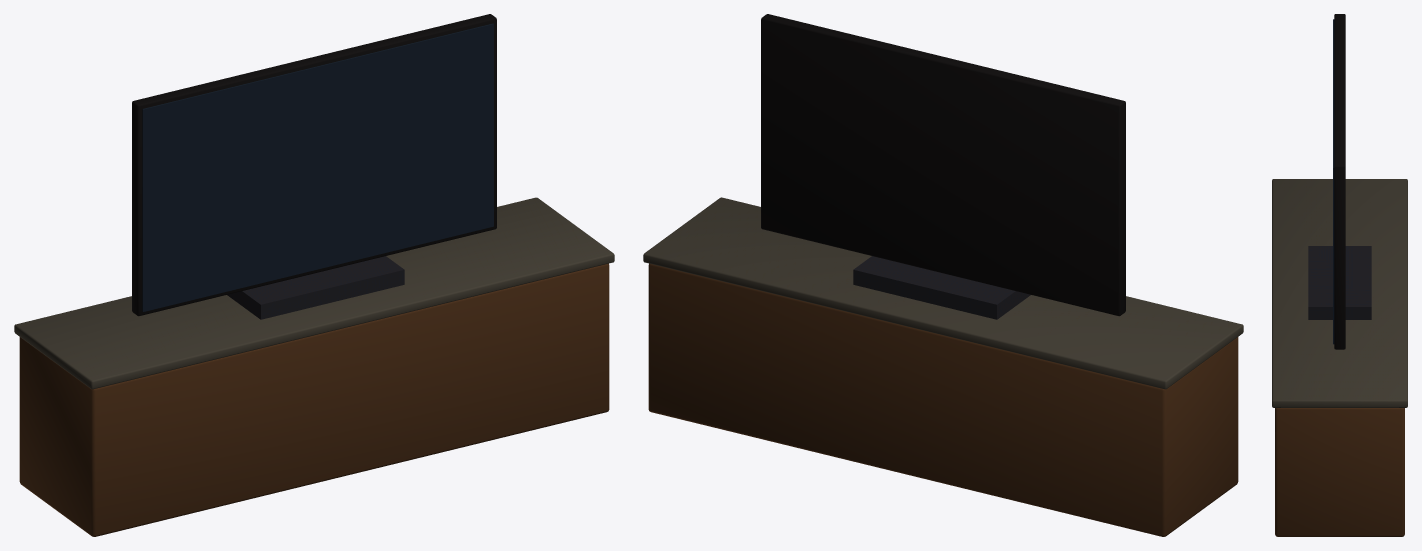
File: fur_tv_55.glb
3 renders of one model, left to right at view 1: azimuth 30°, elevation 25°; view 2: azimuth 150°, elevation 25°; view 3: azimuth 270°, elevation 25°, orthographic. The views are drawn at different scales.
Visible parts, largest first — view 1: FUR_tv_55; view 2: FUR_tv_55; view 3: FUR_tv_55.
Part boxes in pixels (x1,y1,x2,y2): FUR_tv_55: (14,14,614,536); FUR_tv_55: (643,14,1243,536); FUR_tv_55: (1272,14,1407,536).
Size of the model in its own units: 1.82 by 1.29 by 0.47.
Materials: 1 (1 with a texture image).
